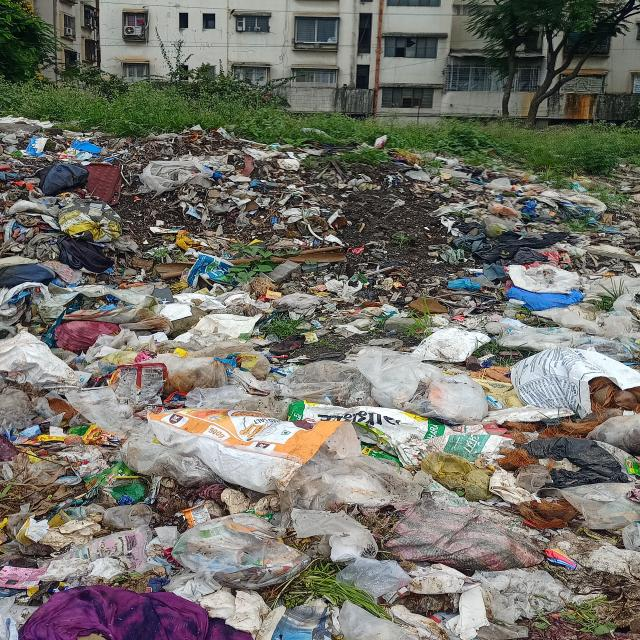garbage: (6, 128, 640, 640)
